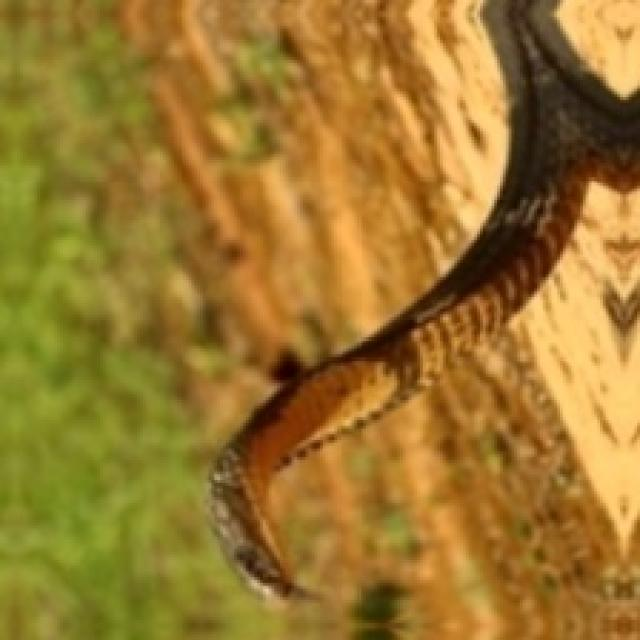king cobra: (211, 0, 637, 637), (577, 280, 637, 386), (594, 397, 637, 457)
